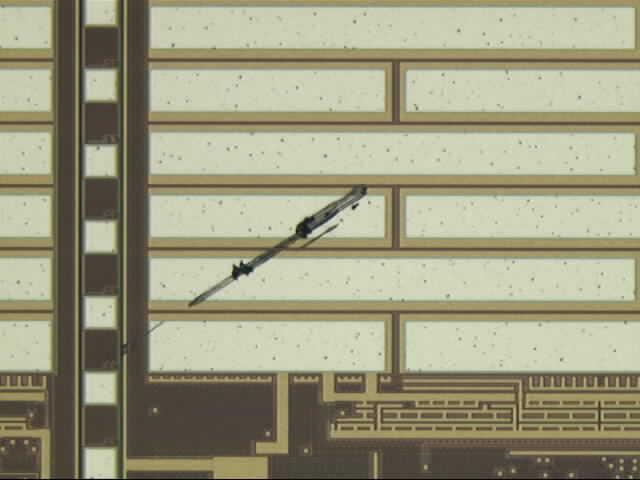SCRATCH: (101, 182, 373, 371)
